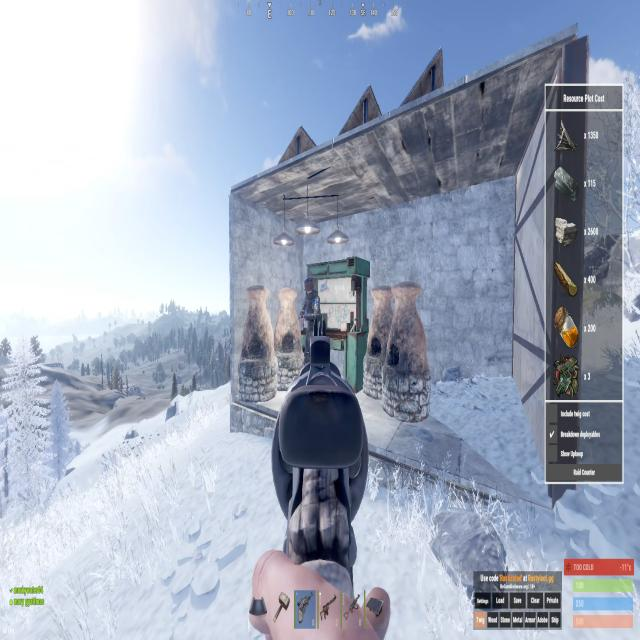Player: (300, 278, 322, 368)
